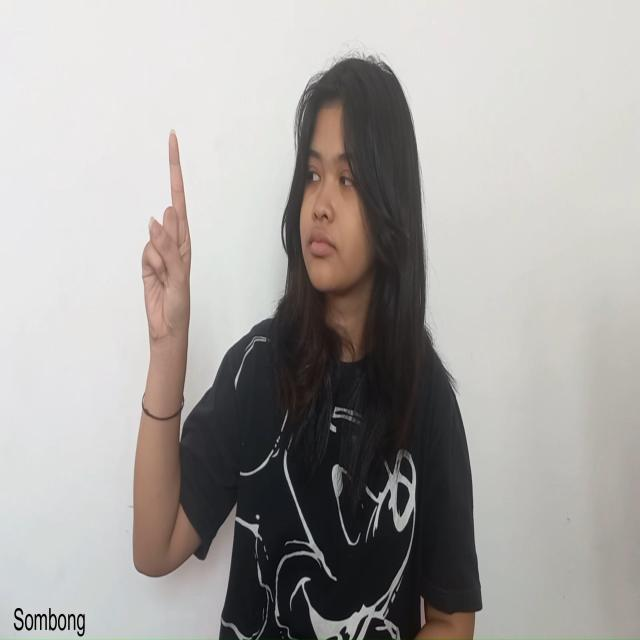Sombong -BISINDO-: (140, 126, 193, 355)
